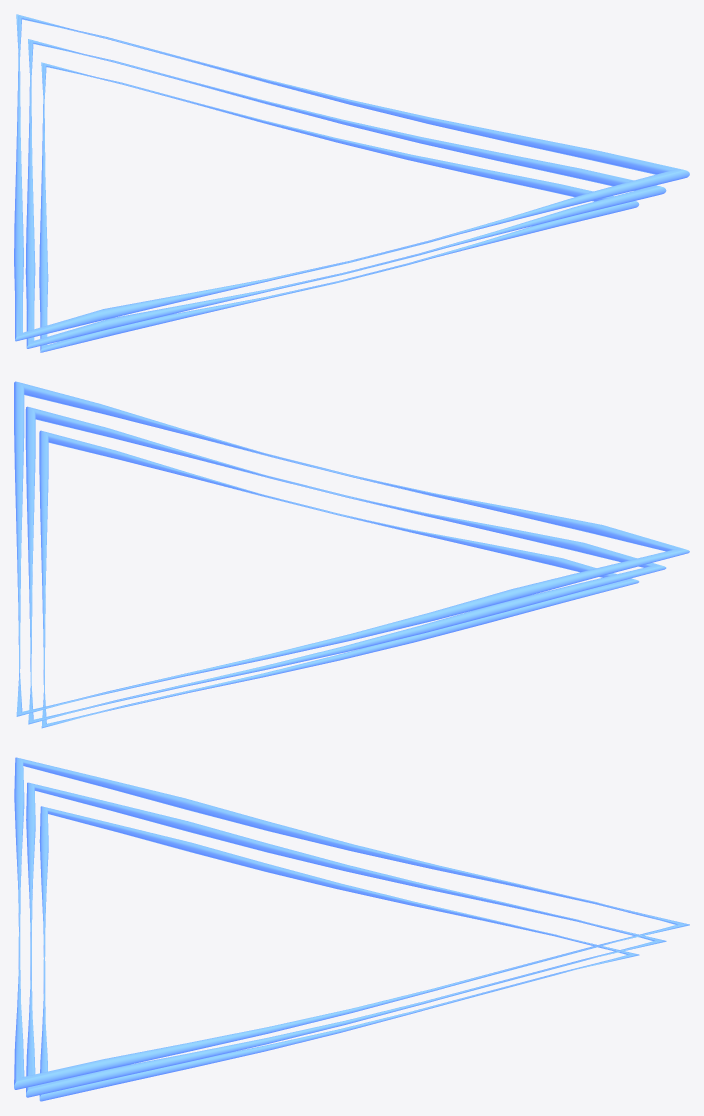
Rendered from 1_lev1.glb.
3 renders of one model, top to bottom at view 1: azimuth 30°, elevation 25°; view 2: azimuth 150°, elevation 25°; view 3: azimuth 270°, elevation 25°, orthographic.
Visible parts, largest first — view 1: 1_lev1; view 2: 1_lev1; view 3: 1_lev1.
Part boxes in pixels (left/top/right/bottom): 1_lev1: left=14, top=14, right=689, bottom=352; 1_lev1: left=14, top=381, right=689, bottom=728; 1_lev1: left=14, top=757, right=689, bottom=1101.
Size of the model in its own units: 3.45 by 0.2152 by 2.97.
